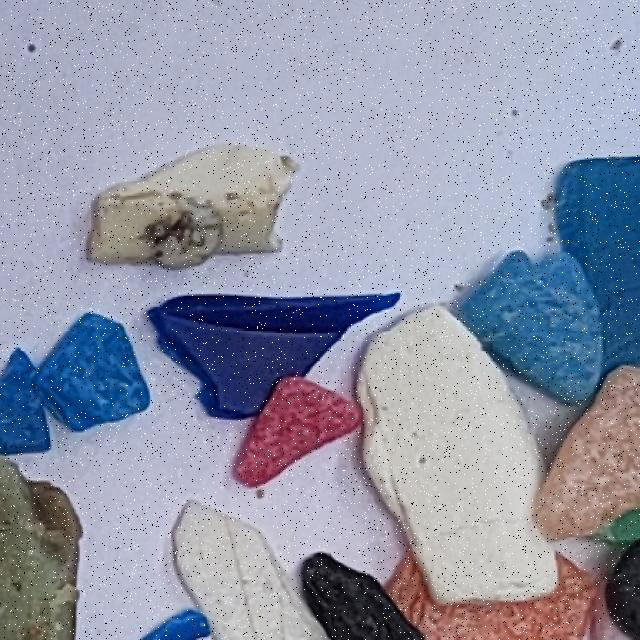fragments: (147, 296, 401, 420), (0, 304, 156, 468), (206, 355, 367, 493), (532, 367, 640, 541), (1, 0, 1, 1), (0, 1, 1, 1)
